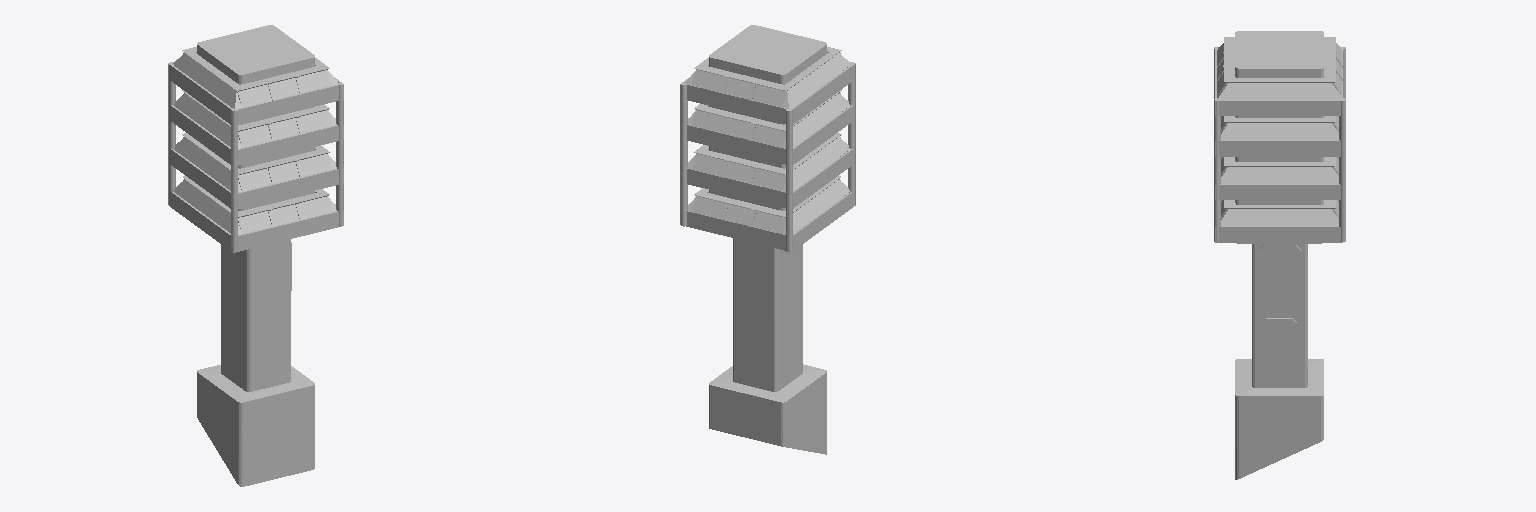
The model's file is Building_UV_0016.obj.
3 views of the same model, side by side, from view 1: azimuth 30°, elevation 25°; view 2: azimuth 150°, elevation 25°; view 3: azimuth 270°, elevation 25° (orthographic).
Parts seen in each view (by area): view 1: Building_UV_00016; view 2: Building_UV_00016; view 3: Building_UV_00016.
Part boxes in pixels (left/top/right/bottom): Building_UV_00016: left=168, top=25, right=343, bottom=486; Building_UV_00016: left=680, top=25, right=855, bottom=454; Building_UV_00016: left=1214, top=31, right=1345, bottom=479.
Size of the model in its own units: 1044 by 3689 by 1076.